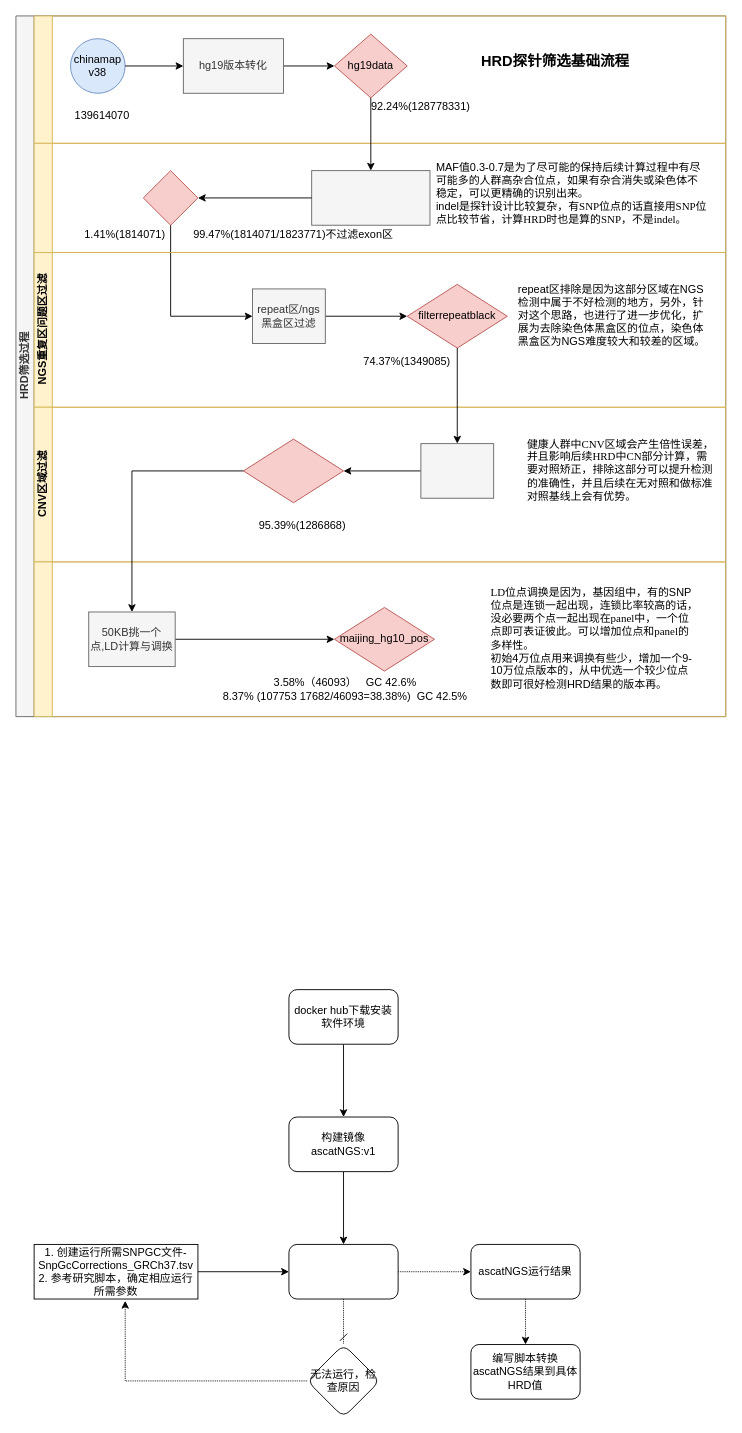
Image size: 742x1433. Some labels were removed from this diagram. Each missing label, with the box of its shape:
exon/MAF值/indel过滤: (311, 170, 430, 225)
filterCNV: (243, 438, 344, 503)
filterindel: (142, 170, 198, 225)
中国人群LD高频点计算并调换: (33, 561, 726, 717)
中国人群数据库准备: (33, 15, 726, 143)
创建运行容器 ascatWGS: (288, 1244, 398, 1299)
功能区过滤: (33, 142, 726, 253)
高频CNV区过滤: (420, 443, 494, 498)
